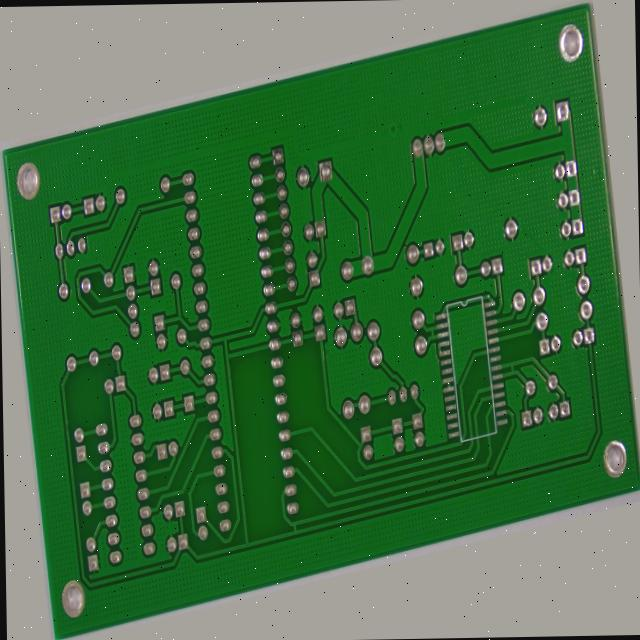short: (266, 556, 281, 580), (511, 420, 524, 445), (430, 356, 443, 376)
